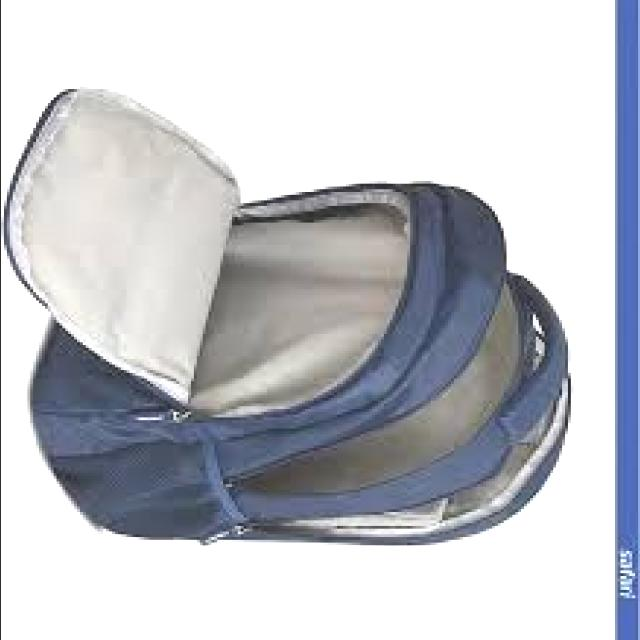backpack: (4, 88, 577, 547)
